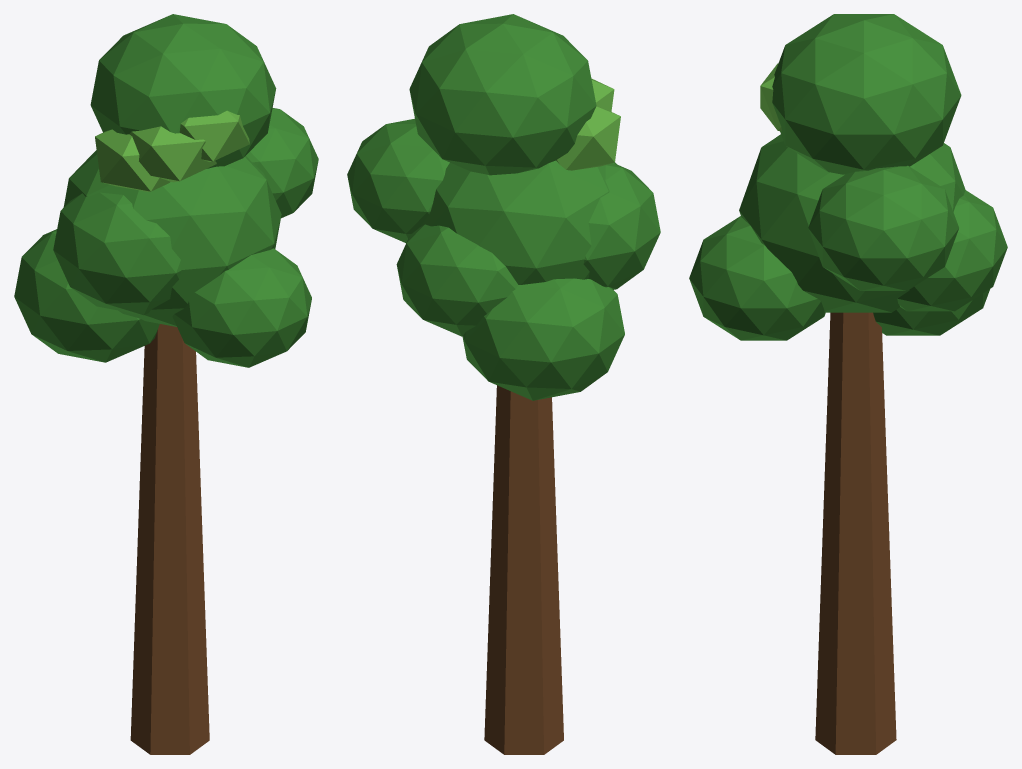
File: tree_2.glb
The picture shows the model from 3 angles, left to right: view 1: azimuth 30°, elevation 25°; view 2: azimuth 150°, elevation 25°; view 3: azimuth 270°, elevation 25°; orthographic projection. The views are drawn at different scales.
Parts seen in each view (by area): view 1: leaves1, trunk, leaves2; view 2: leaves1, trunk, leaves2; view 3: leaves1, trunk, leaves2.
Boxes of the visible parts, box(x1,y1,x2,y2) form: leaves1: box(14, 14, 318, 367); trunk: box(130, 324, 209, 754); leaves2: box(95, 110, 249, 191); leaves1: box(347, 14, 660, 400); trunk: box(484, 385, 563, 754); leaves2: box(556, 78, 620, 170); leaves1: box(689, 14, 1007, 340); trunk: box(815, 312, 896, 754); leaves2: box(760, 63, 781, 131).
Size of the model in its own units: 0.7762 by 1.98 by 0.7852.
